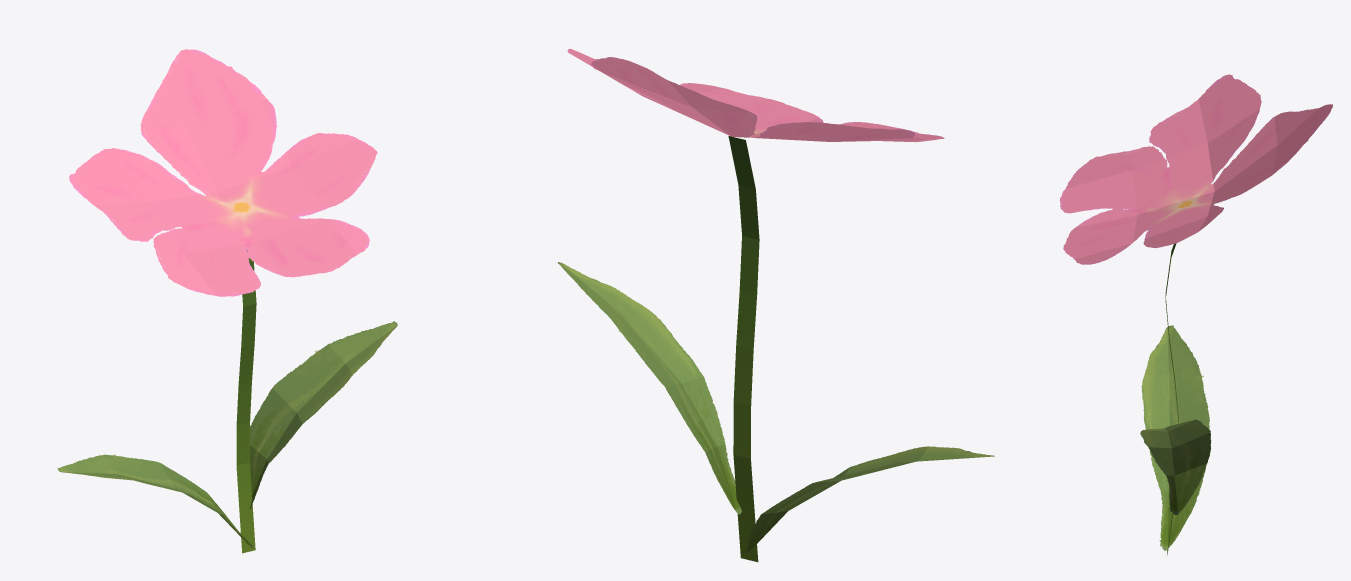
Rendered from Flower_3.fbx.
3 renders of one model, left to right at view 1: azimuth 30°, elevation 25°; view 2: azimuth 150°, elevation 25°; view 3: azimuth 270°, elevation 25°, orthographic. The views are drawn at different scales.
Parts seen in each view (by area): view 1: Flower3.001; view 2: Flower3.001; view 3: Flower3.001.
Boxes of the visible parts, x1,y1,x2,y2 form: Flower3.001: (57,49,397,553); Flower3.001: (557,49,994,562); Flower3.001: (1059,74,1332,555).
Bounding box in the file's own units: 210 × 255 × 141.
